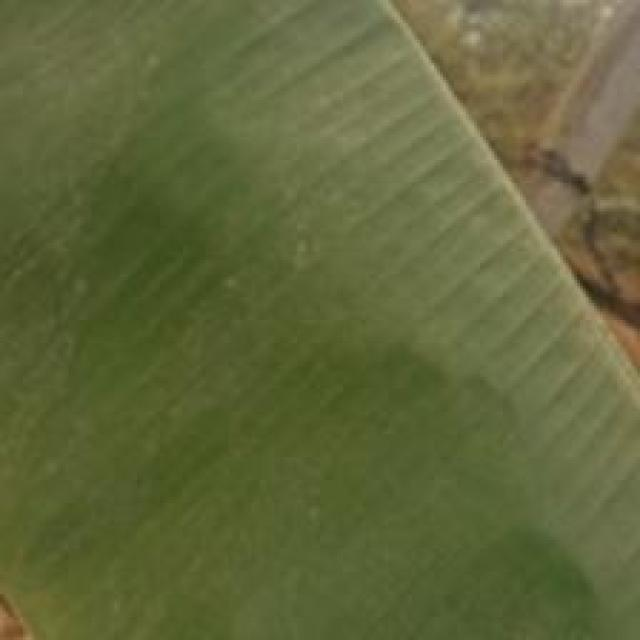Black_leaf_spot: (0, 18, 498, 607)
